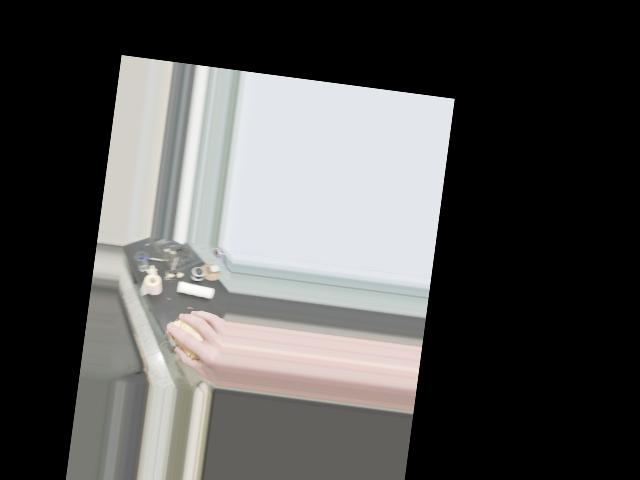onion: (164, 315, 213, 362)
